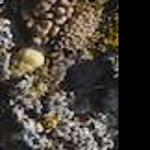alive: (1, 5, 118, 145)
